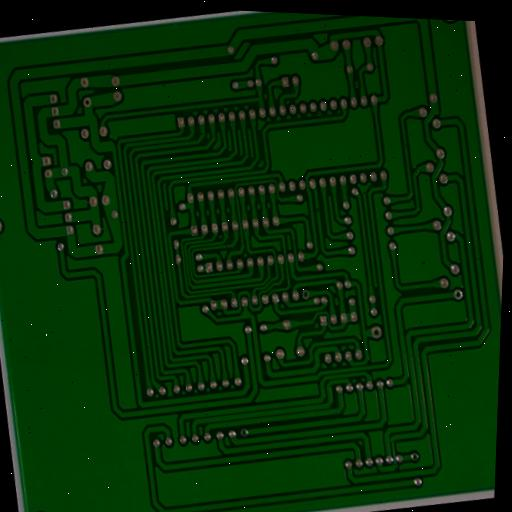missing_hole: (368, 322, 386, 341), (299, 285, 312, 303), (452, 287, 466, 303), (238, 426, 251, 439), (409, 451, 420, 462)
